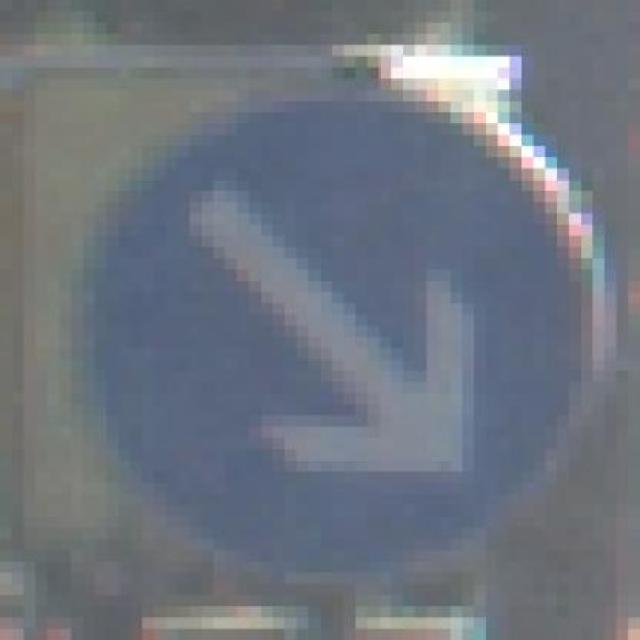Keep-Right: (59, 78, 616, 584)
